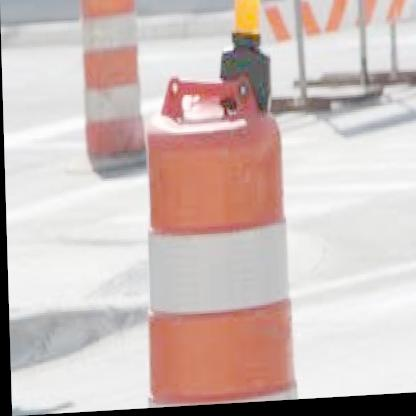obstacle: (134, 69, 300, 410)
